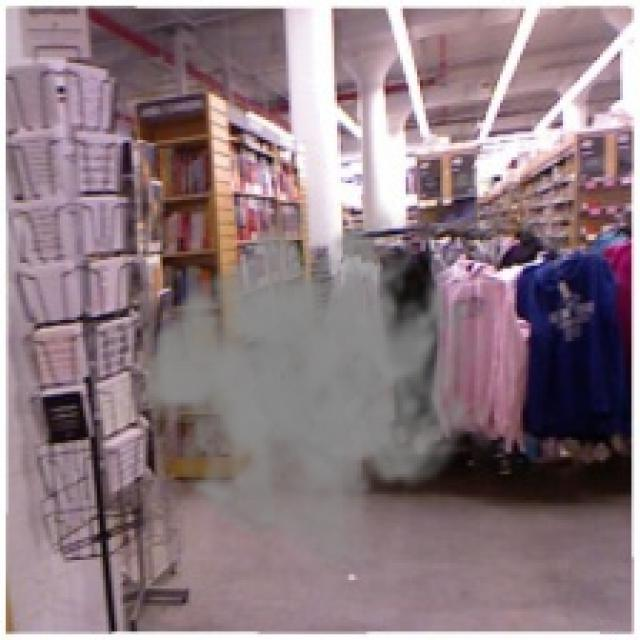smoke: (134, 189, 492, 577)
